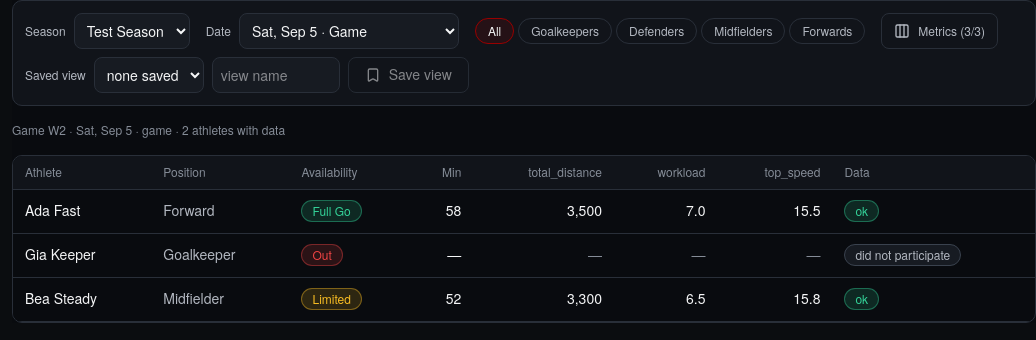
Athletes page marks device-missing data as “—”, never zero
The width and height of the screenshot is (1036, 340).
Select "Wed, Sep 2 · Game" in the dropdown labelled "Date": [349, 31] box x1=239 y1=13 x2=459 y2=49
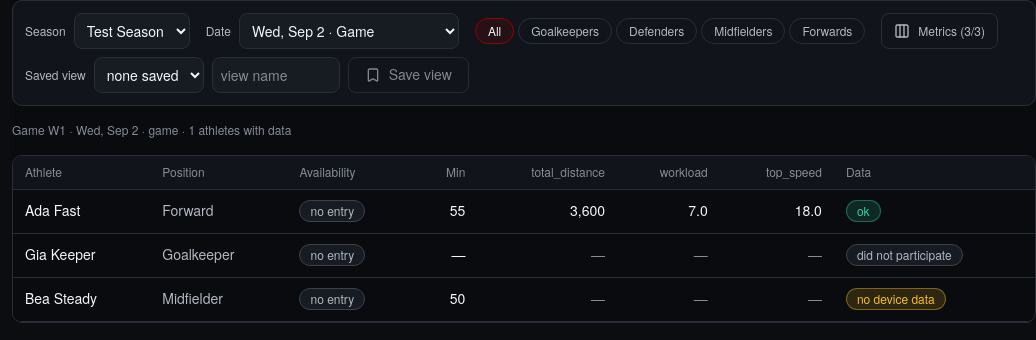
Expected: the text "Game W1 · Wed, Sep 2 · game · 1 athletes with data" is shown, x1=12 y1=121 x2=291 y2=138
Expected: the text "no device data" is shown, x1=846 y1=288 x2=946 y2=310
Expected: the text named "no data" is shown, x1=591 y1=288 x2=605 y2=308
